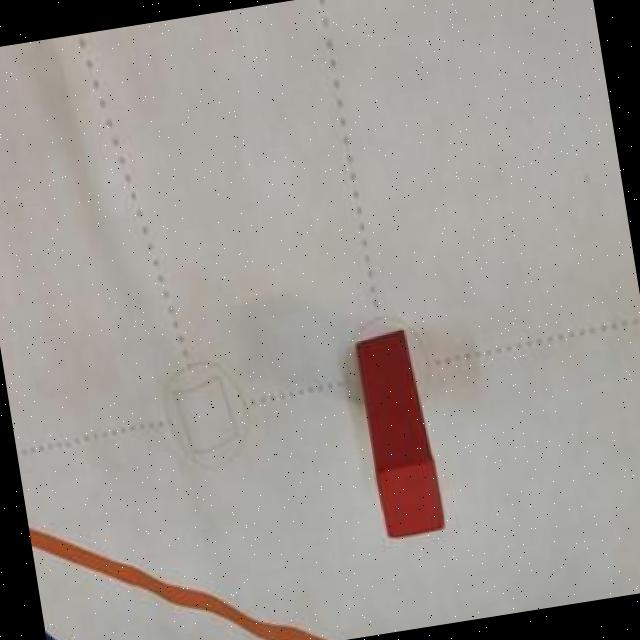redbox: (354, 324, 448, 544)
